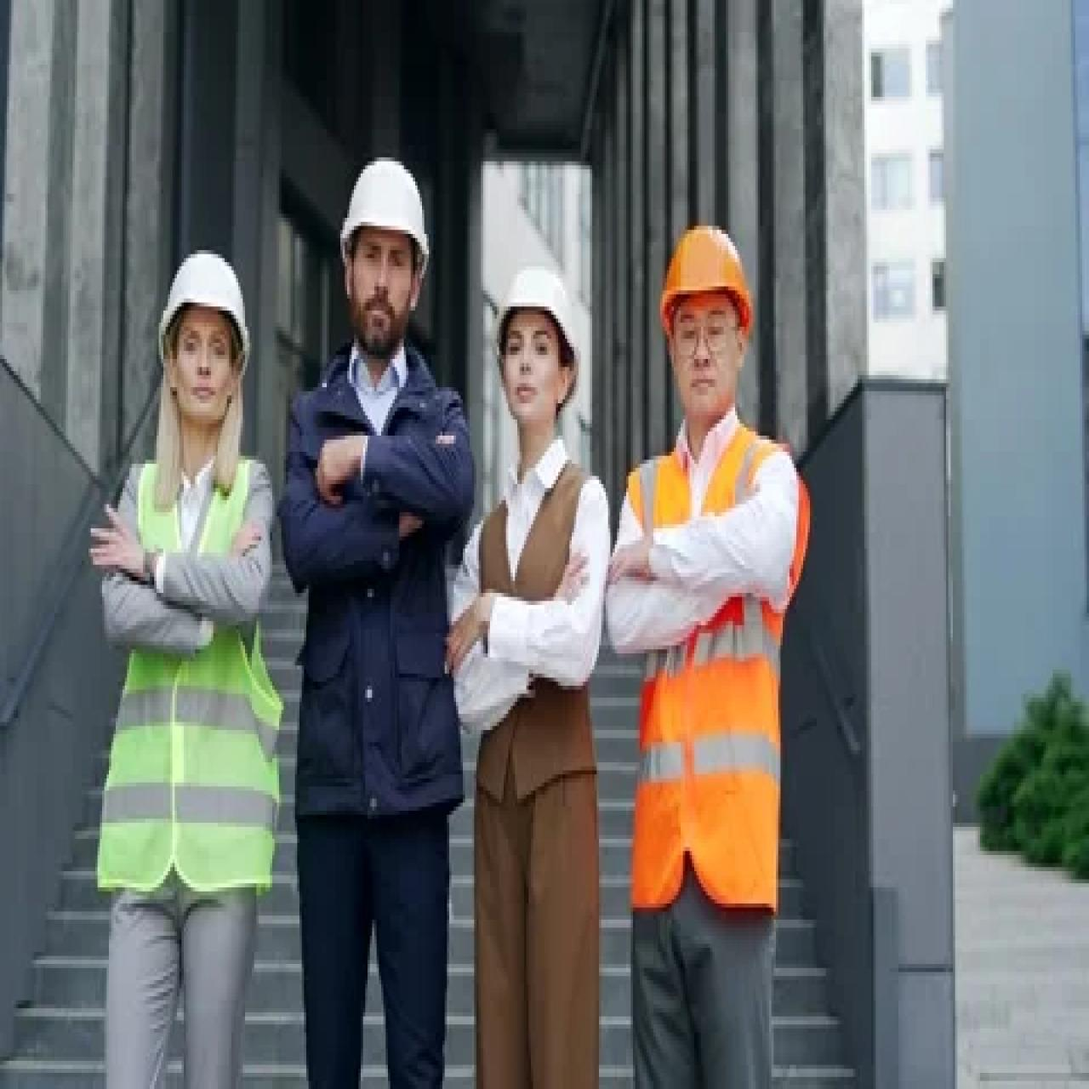NO_Safety_Vest: (272, 365, 473, 832), (461, 461, 613, 811)
Person: (267, 119, 490, 1089), (601, 197, 820, 1089), (75, 222, 295, 1089), (441, 248, 620, 1089)
Safety_Vest: (93, 450, 285, 905), (621, 431, 801, 910)
